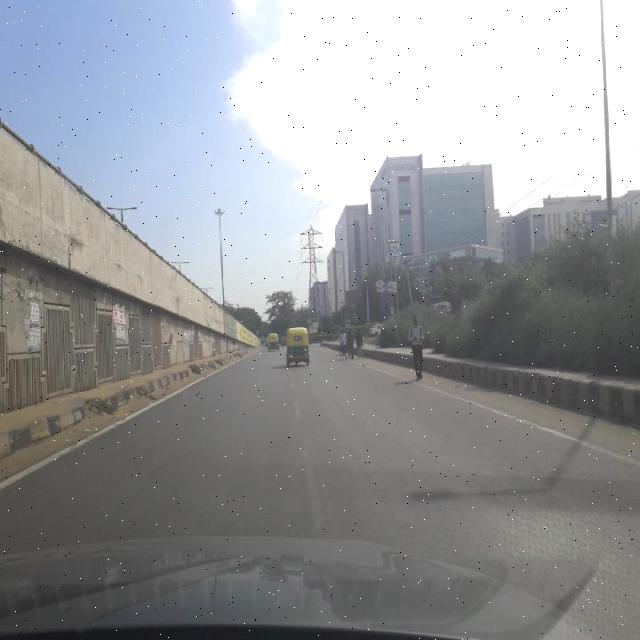D44: (285, 363, 331, 533)
